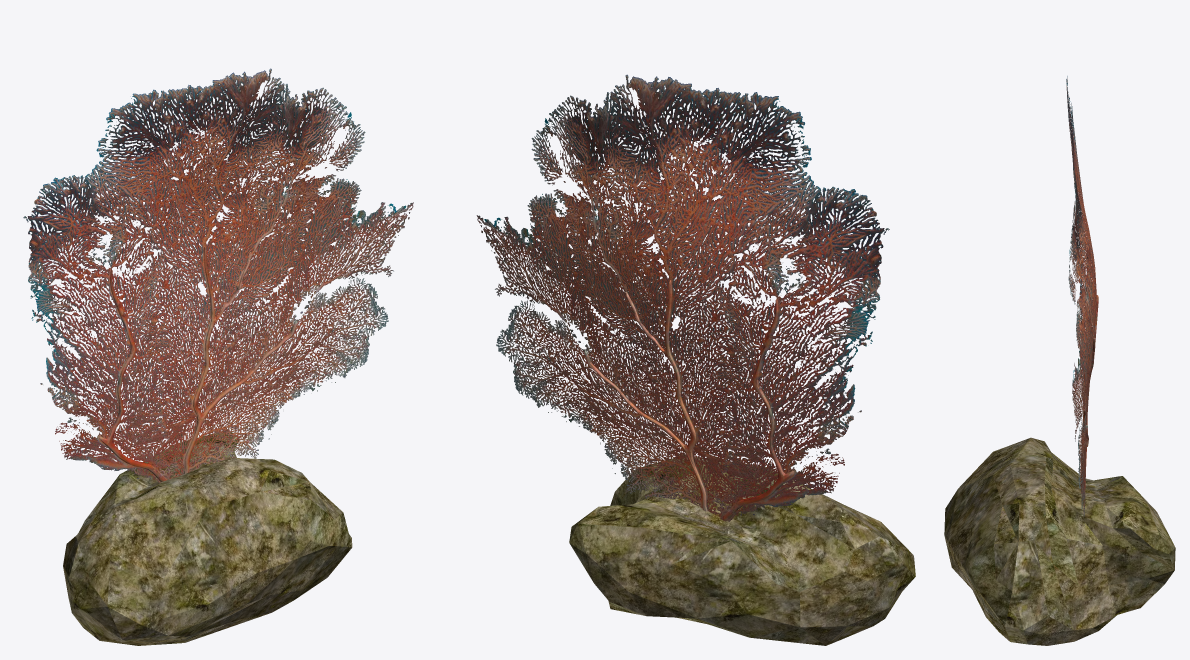
File: annella-mollis.glb
3 renders of one model, left to right at view 1: azimuth 30°, elevation 25°; view 2: azimuth 150°, elevation 25°; view 3: azimuth 270°, elevation 25°, orthographic. The views are drawn at different scales.
Parts seen in each view (by area): view 1: fan0, rock; view 2: fan0, rock; view 3: rock, fan0.
Boxes of the visible parts, bbox=[...] form: fan0: bbox=[23, 68, 413, 483]; rock: bbox=[63, 431, 352, 645]; fan0: bbox=[476, 74, 889, 521]; rock: bbox=[569, 455, 915, 645]; rock: bbox=[944, 437, 1175, 645]; fan0: bbox=[1066, 76, 1098, 525].
Size of the model in its own units: 1 by 1.24 by 0.5.
3 materials, 3 textured.
